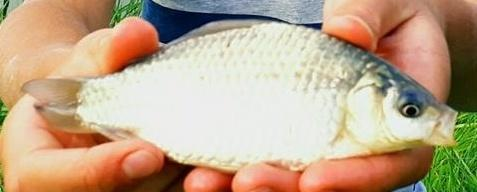Tilapia: (17, 19, 458, 175)
